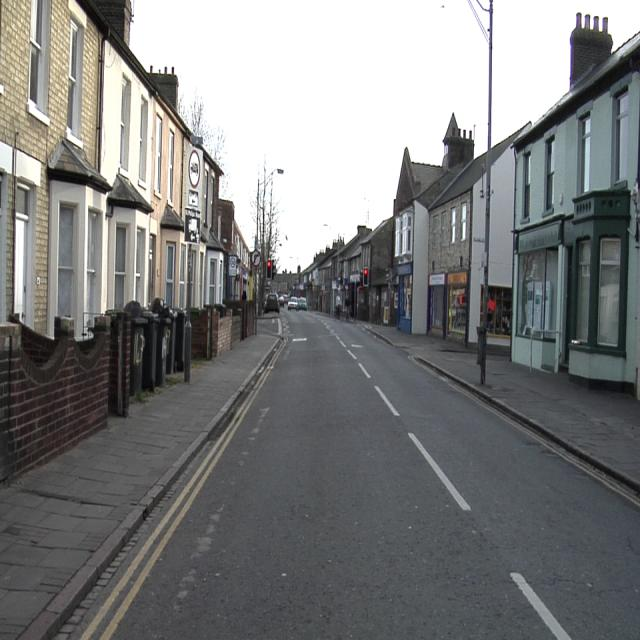Building: (301, 15, 640, 392), (0, 0, 255, 482)
Car: (264, 293, 279, 312), (288, 297, 299, 309), (299, 297, 308, 309)
Road: (70, 312, 640, 638)
